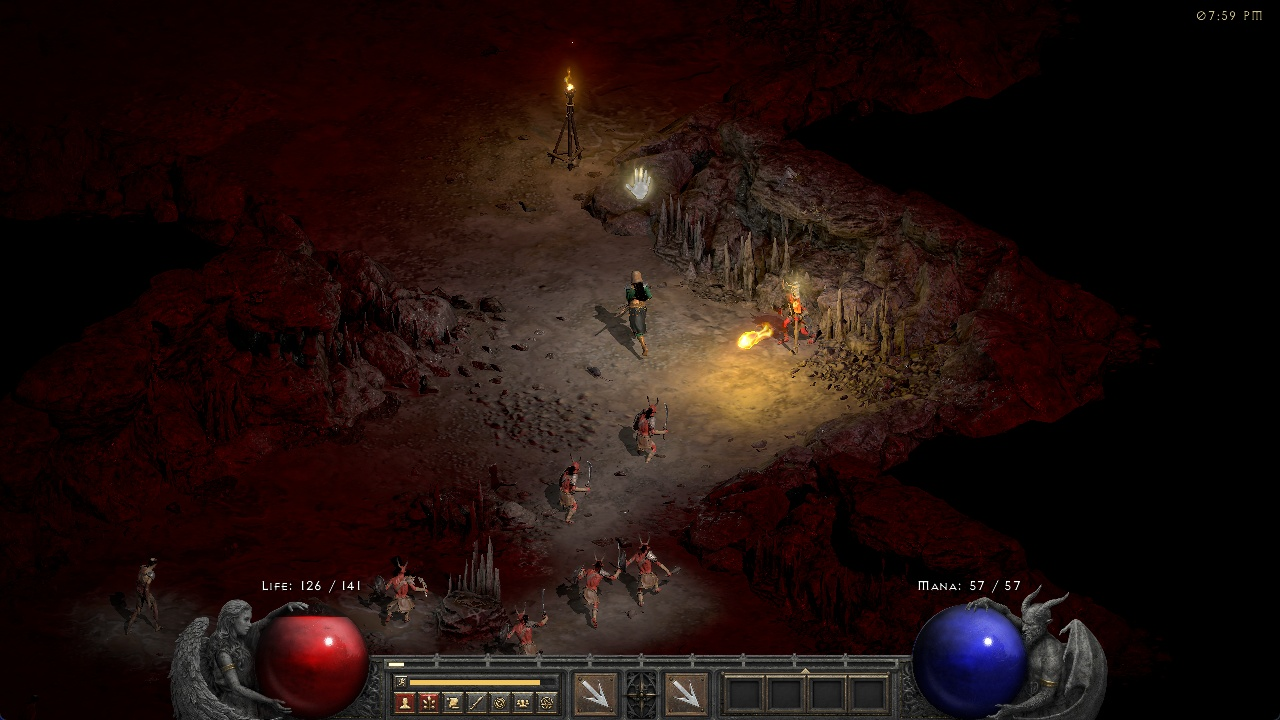fallen: (623, 539, 674, 605), (378, 562, 420, 627), (575, 559, 615, 621), (552, 457, 591, 517), (633, 400, 671, 460), (501, 605, 543, 654)
